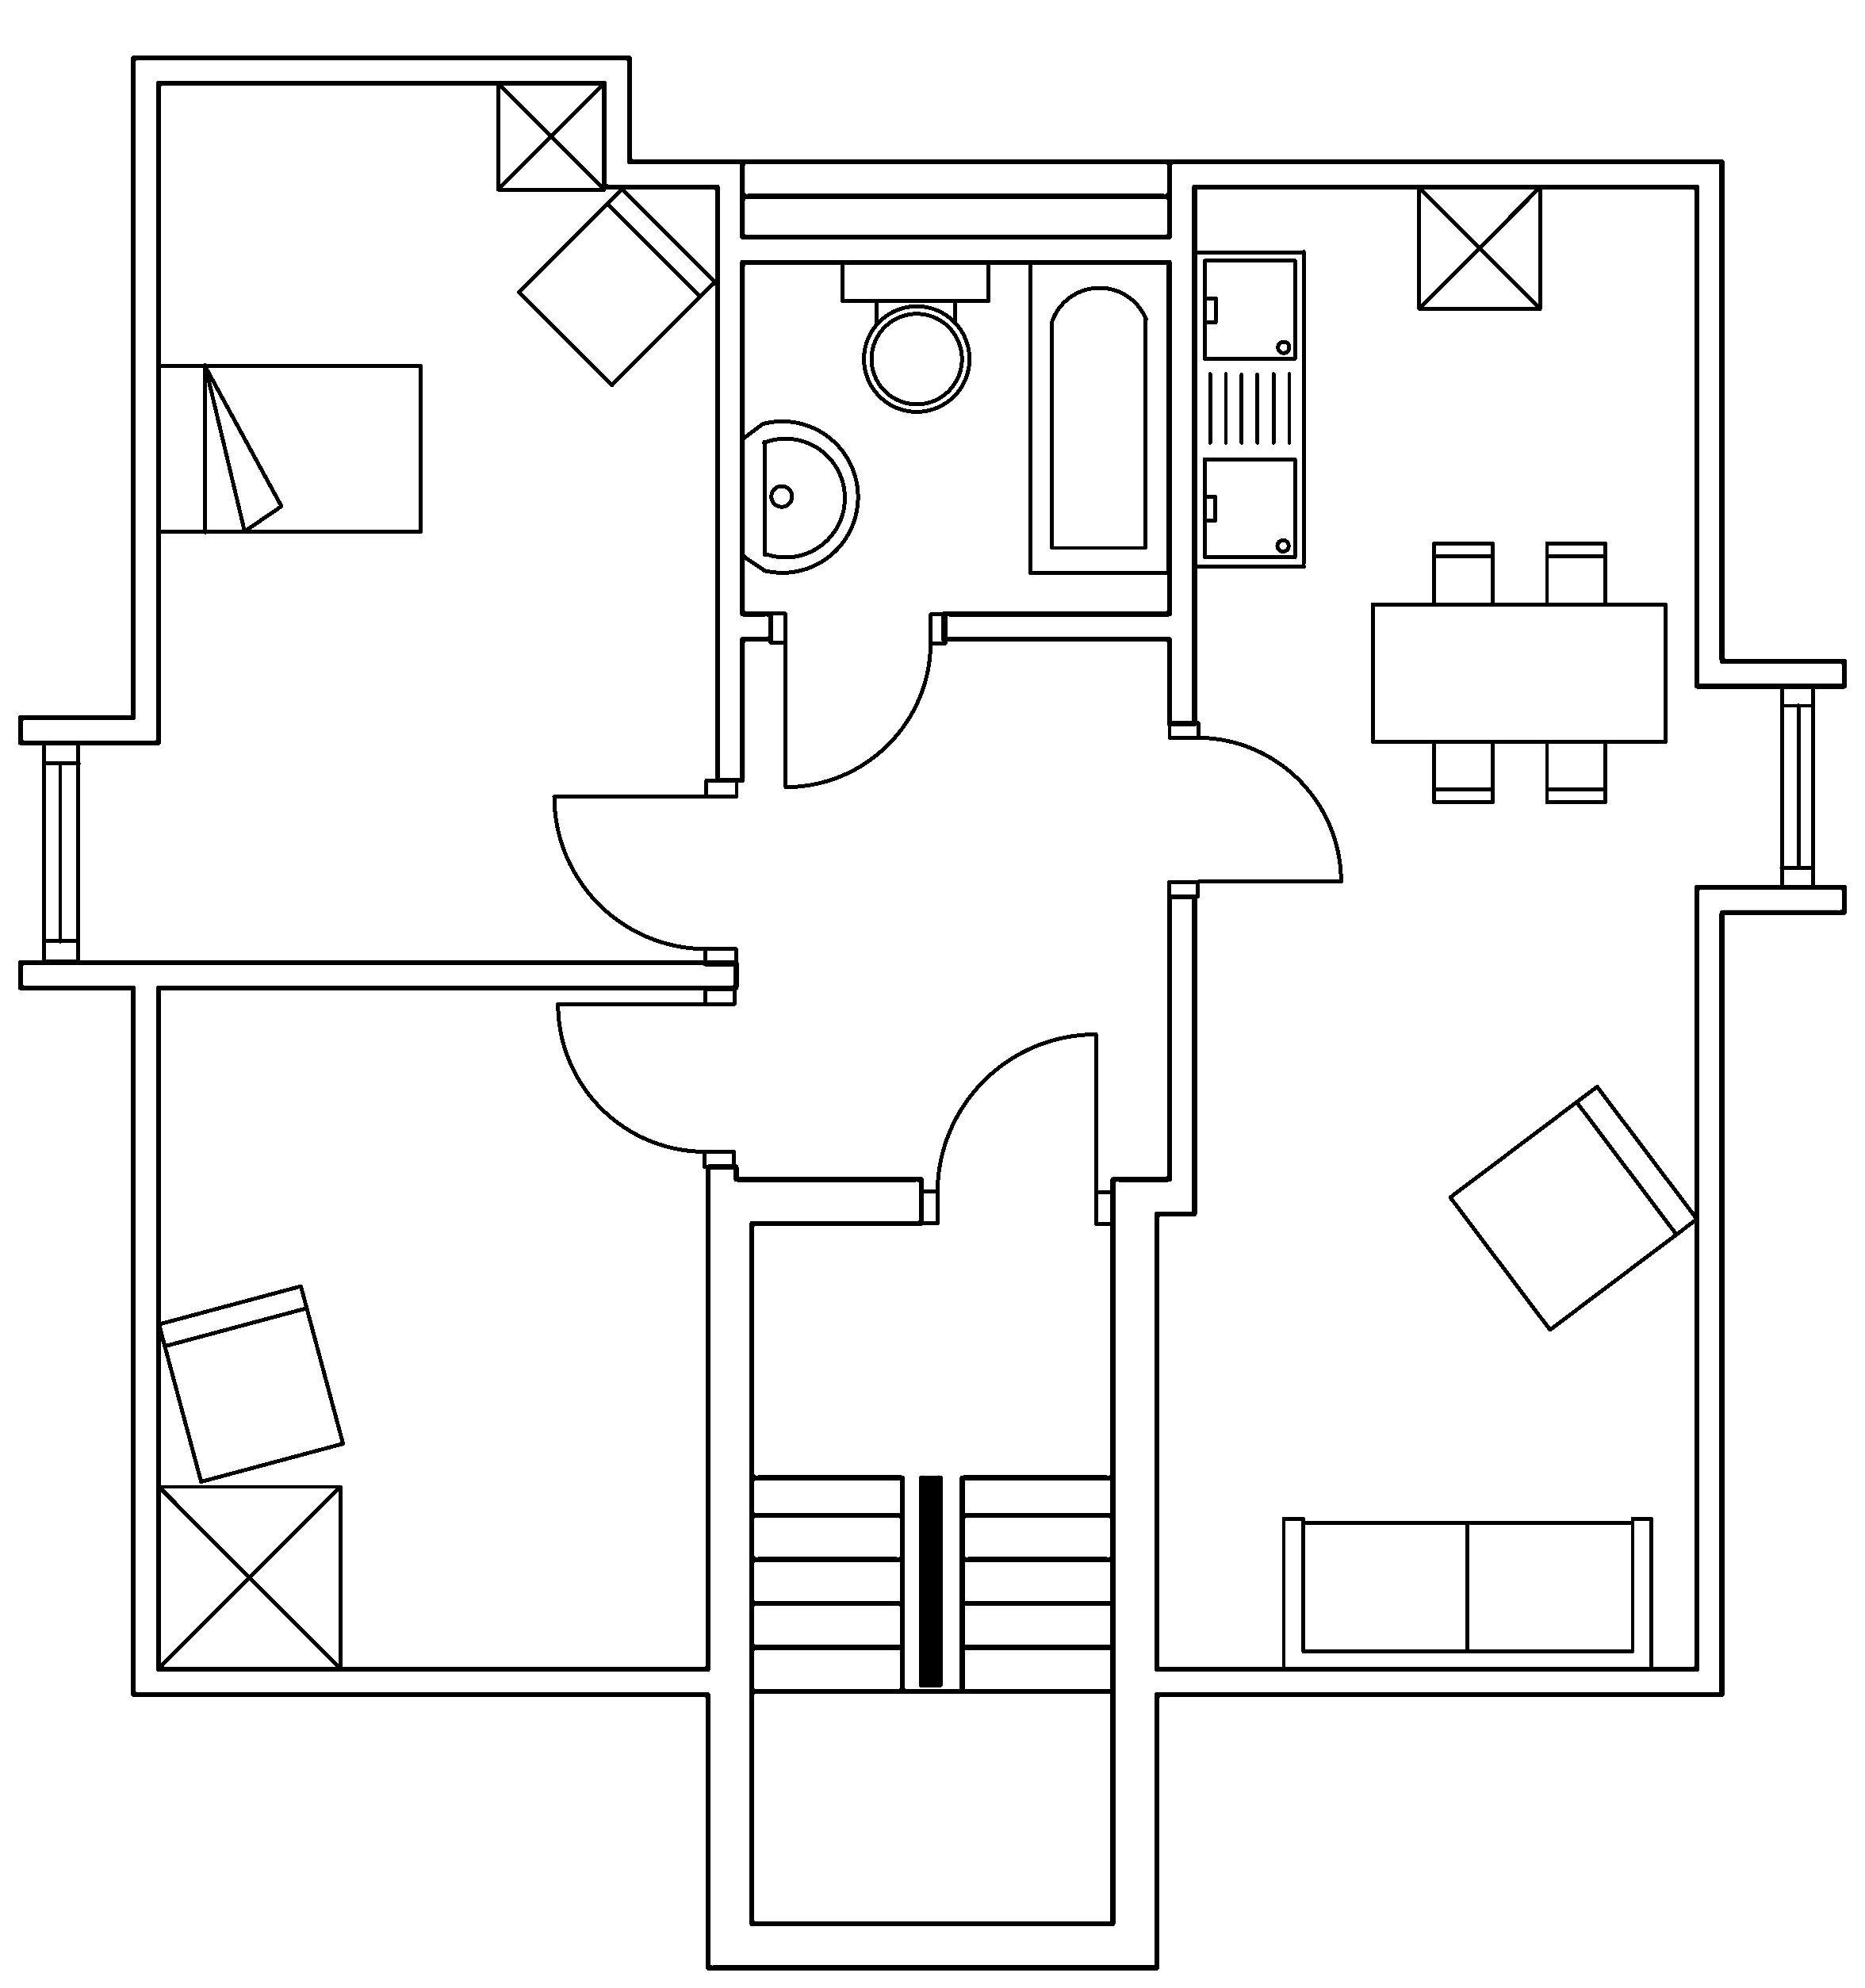bed: (154, 361, 424, 535)
coffee_table: (154, 1481, 342, 1671), (1416, 182, 1542, 310), (494, 79, 606, 191)
dining_table: (1369, 540, 1669, 805)
large_sink: (840, 258, 990, 412)
large_sofa: (1280, 1515, 1655, 1672)
small_sink: (740, 419, 859, 573)
small_sofa: (1446, 1082, 1698, 1332), (515, 186, 717, 387), (156, 1282, 345, 1483)
tub: (1027, 258, 1171, 575)
twin_sink: (1192, 247, 1308, 570)
